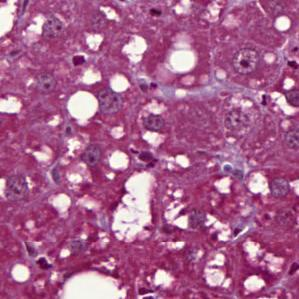ballooning: (107, 168, 161, 246)
